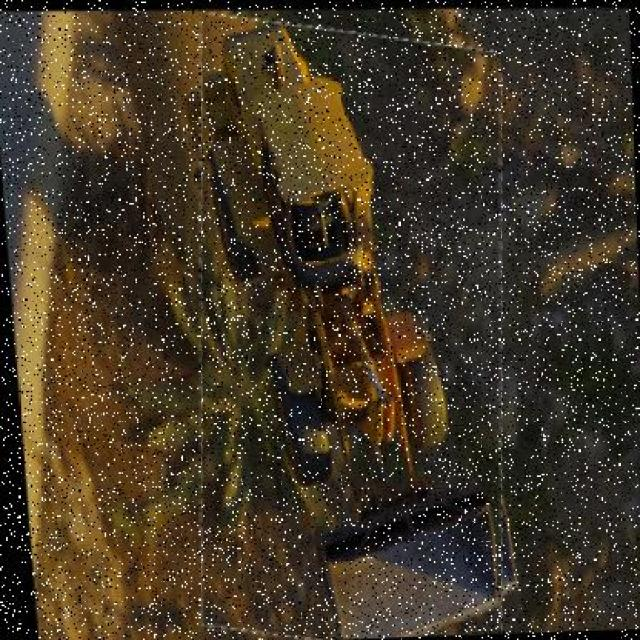buldozerpayloadergrader: (202, 16, 501, 639)
